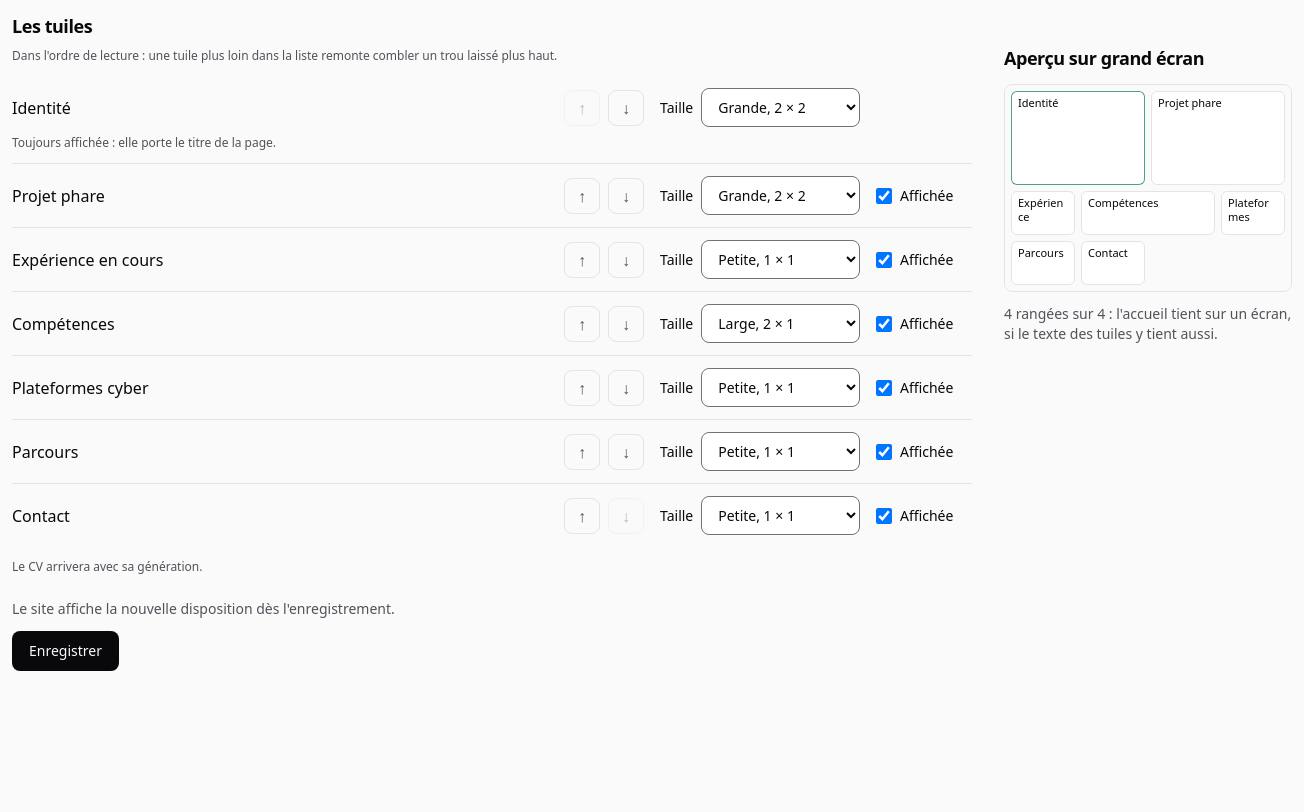
Test: BentoForm › shows again what was sent when the save is refused
Click the button named "Descendre la tuile Identité" at (626, 108), box [608, 90, 644, 126]
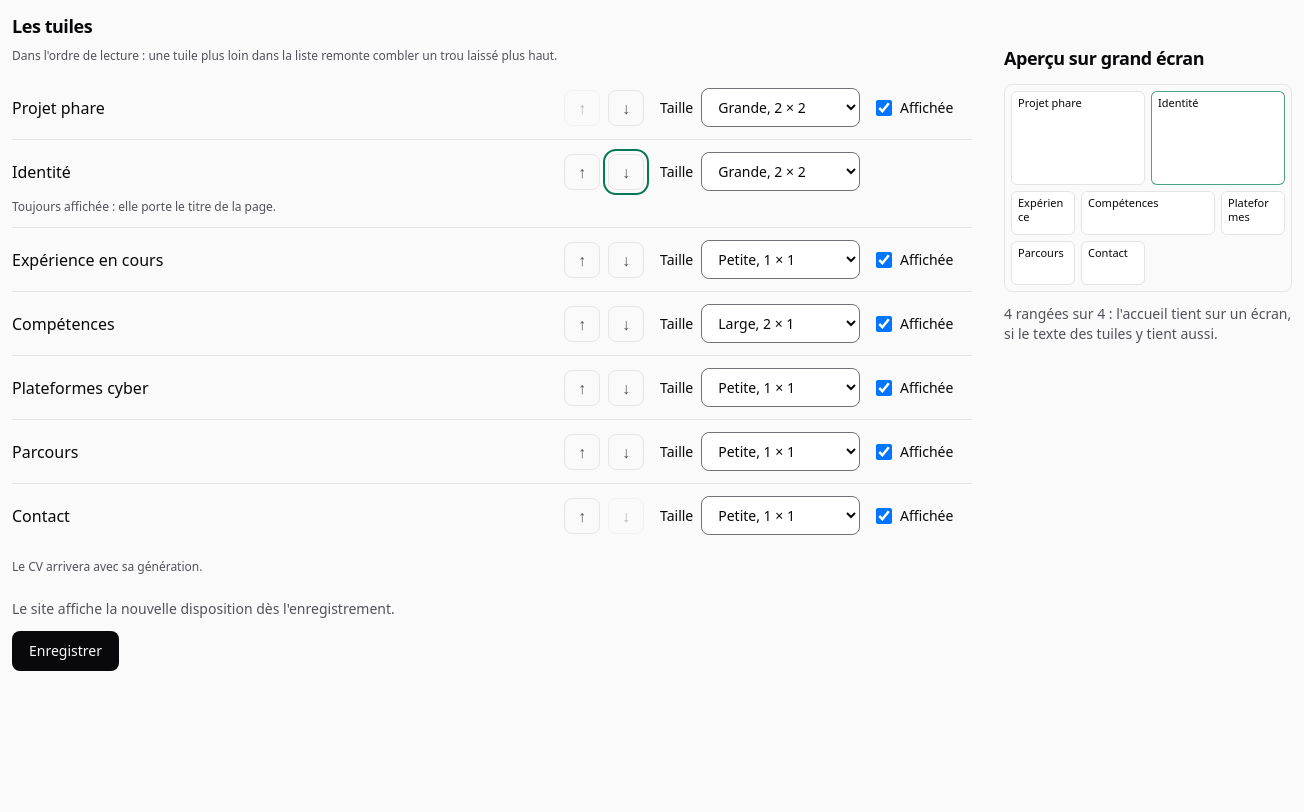
Select "Large, 2 × 1" in the dropdown named "Taille (Contact)" at (781, 516), box [701, 496, 860, 535]
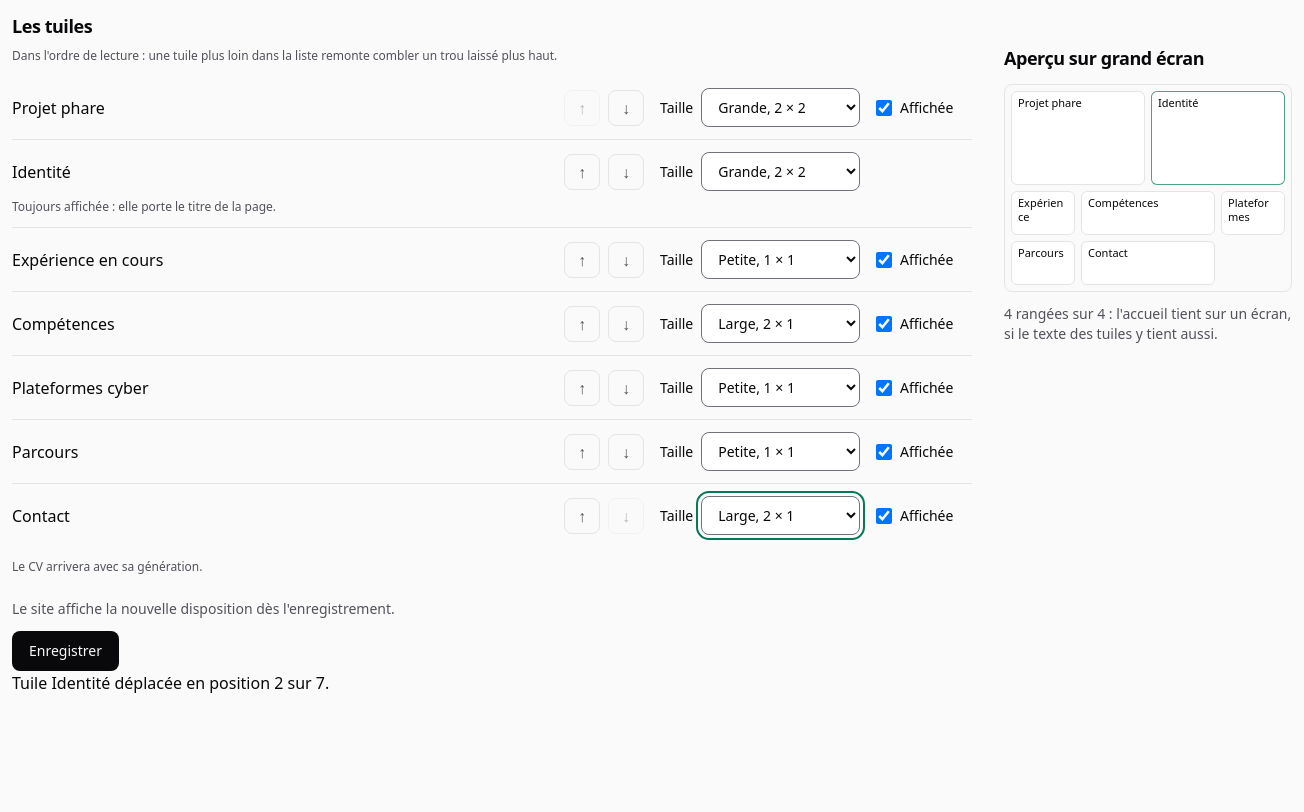
Click the button "Enregistrer" at (66, 651), box [12, 631, 119, 671]
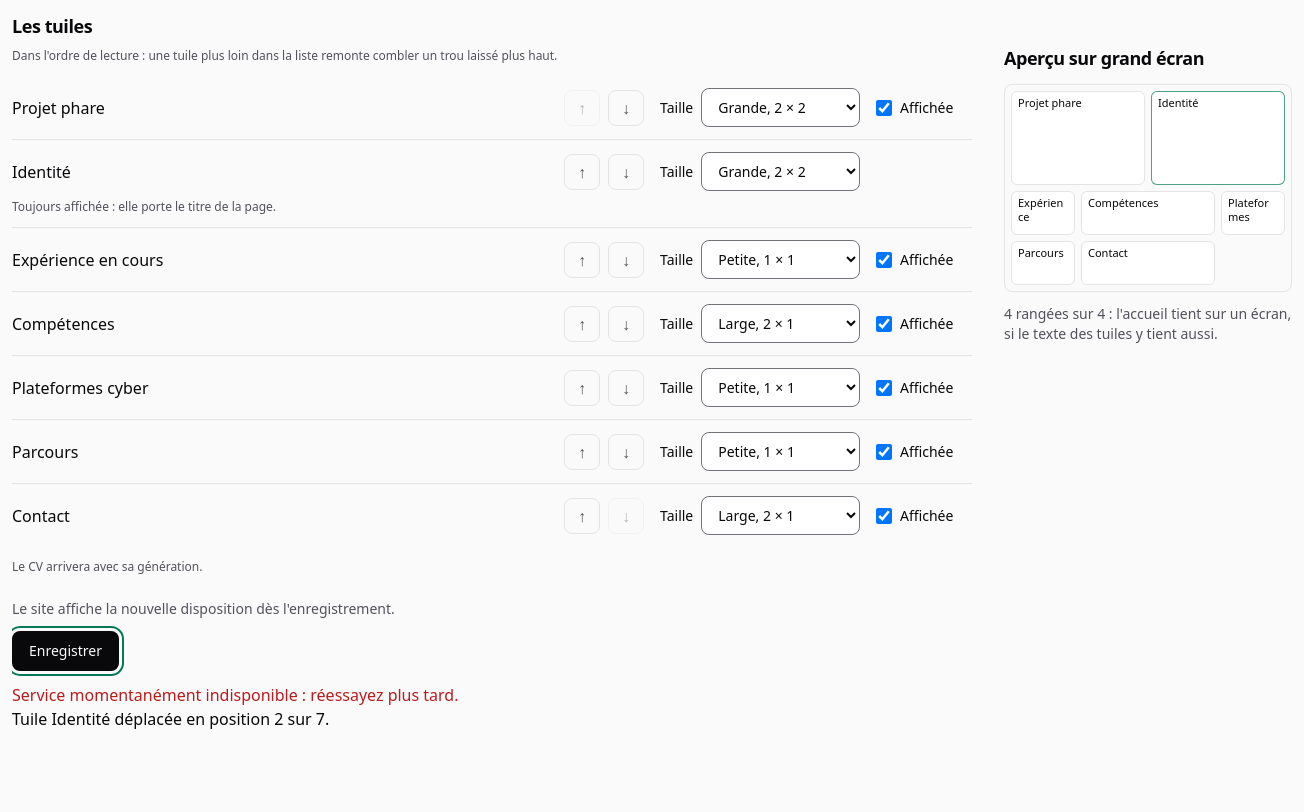
Expected: the dropdown named "Taille (Contact)" shows "Large, 2 × 1", [701, 496, 860, 535]
Now the message shows "réessayez plus tard", box [12, 684, 458, 706]
